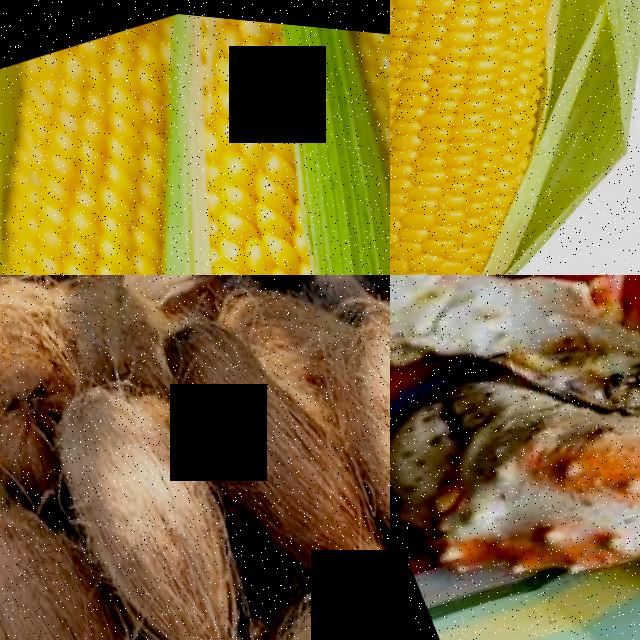coconut: (28, 344, 271, 640), (294, 275, 390, 604), (0, 470, 160, 640), (210, 557, 390, 640), (97, 275, 265, 346)
corn: (20, 0, 390, 275), (390, 0, 640, 275)
crab: (390, 304, 640, 640), (414, 275, 640, 617)
